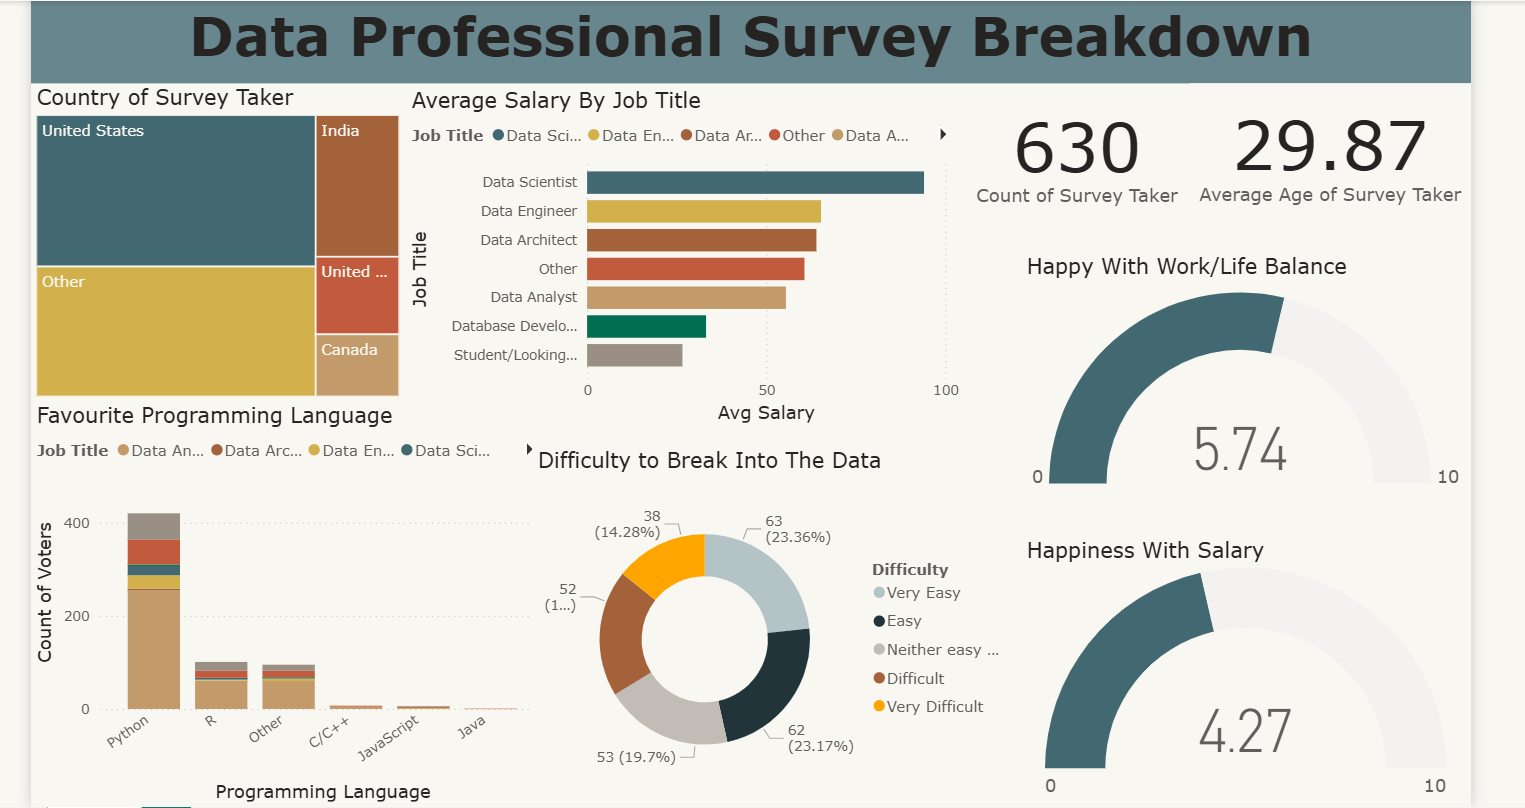

The dashboard page shown, as its layout file describes it:
{"tool":"powerbi","page":{"name":"Page 1","canvas":[1280,720],"ordinal":0},"visuals":[{"type":"textbox","box":[0,0,1280,76.7],"z":0},{"type":"card","fields":{"Values":["CountNonNull(Data Professional Survey.Unique ID)"]},"box":[830,80,200,118.3],"z":1000},{"type":"card","fields":{"Values":["Avg(Data Professional Survey.Q10 - Current Age)"]},"box":[1030,76.7,250,121.7],"z":2000},{"type":"barChart","title":"Average Salary By Job Title","fields":{"Category":["Data Professional Survey.Q1 - Which Title Best Fits your Current Role?.1"],"Y":["Avg(Data Professional Survey.Avrage Salary)"],"Series":["Data Professional Survey.Q1 - Which Title Best Fits your Current Role?.1"]},"box":[333.3,80,496.7,303.3],"z":3000},{"type":"columnChart","title":"Favourite Programming  Language ","fields":{"Category":["Data Professional Survey.Q5 - Favorite Programming Language.1"],"Y":["CountNonNull(Data Professional Survey.Unique ID)"],"Series":["Data Professional Survey.Q1 - Which Title Best Fits your Current Role?.1"]},"box":[0,360,462.5,360],"z":4000},{"type":"treemap","title":"Country of Survey Taker","fields":{"Group":["Data Professional Survey.Q11 - Which Country do you live in?.1"],"Values":["CountNonNull(Data Professional Survey.Q11 - Which Country do you live in?.1)"]},"box":[0,77.5,332.5,282.5],"z":5000},{"type":"gauge","title":"Happy With Work/Life Balance","fields":{"Y":["Avg(Data Professional Survey.Q6 - How Happy are you in your Current Position with the following? (Work/Life Balance))"],"MinValue":["Min(Data Professional Survey.Q6 - How Happy are you in your Current Position with the following? (Work/Life Balance))1"],"MaxValue":["Max(Data Professional Survey.Q6 - How Happy are you in your Current Position with the following? (Work/Life Balance))2"]},"box":[880,227.5,400,222.5],"z":5001},{"type":"gauge","title":"Happiness With Salary","fields":{"Y":["Avg(Data Professional Survey.Q6 - How Happy are you in your Current Position with the following? (Salary))"],"MinValue":["Min(Data Professional Survey.Q6 - How Happy are you in your Current Position with the following? (Salary))"],"MaxValue":["Max(Data Professional Survey.Q6 - How Happy are you in your Current Position with the following? (Salary))"]},"box":[880,480,400,240],"z":5002},{"type":"donutChart","title":"Difficulty to Break Into The Data","fields":{"Category":["Data Professional Survey.Q7 - How difficult was it for you to break into Data?"],"Y":["Avg(Data Professional Survey.Avrage Salary)"]},"box":[445,400,435,320],"z":5003}]}

Visuals, with their boxes on the page's 1280x720 design canvas (x1, y1, x2, y2). These are canvas units, not pixel positions in the 1525x808 screenshot, which may show the page scaled, cropped or inside an application window:
textbox: [0, 0, 1280, 77]
card - CountNonNull(Data Professional Survey.Unique ID): [830, 80, 1030, 198]
card - Avg(Data Professional Survey.Q10 - Current Age): [1030, 77, 1280, 198]
"Average Salary By Job Title" barChart: [333, 80, 830, 383]
"Favourite Programming  Language " columnChart: [0, 360, 462, 720]
"Country of Survey Taker" treemap: [0, 78, 332, 360]
"Happy With Work/Life Balance" gauge: [880, 228, 1280, 450]
"Happiness With Salary" gauge: [880, 480, 1280, 720]
"Difficulty to Break Into The Data" donutChart: [445, 400, 880, 720]
